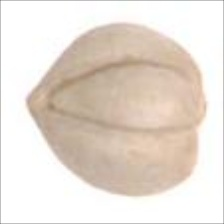L5: (50, 58, 197, 135), (23, 74, 60, 137), (188, 55, 210, 150)
L6: (24, 21, 209, 199)
